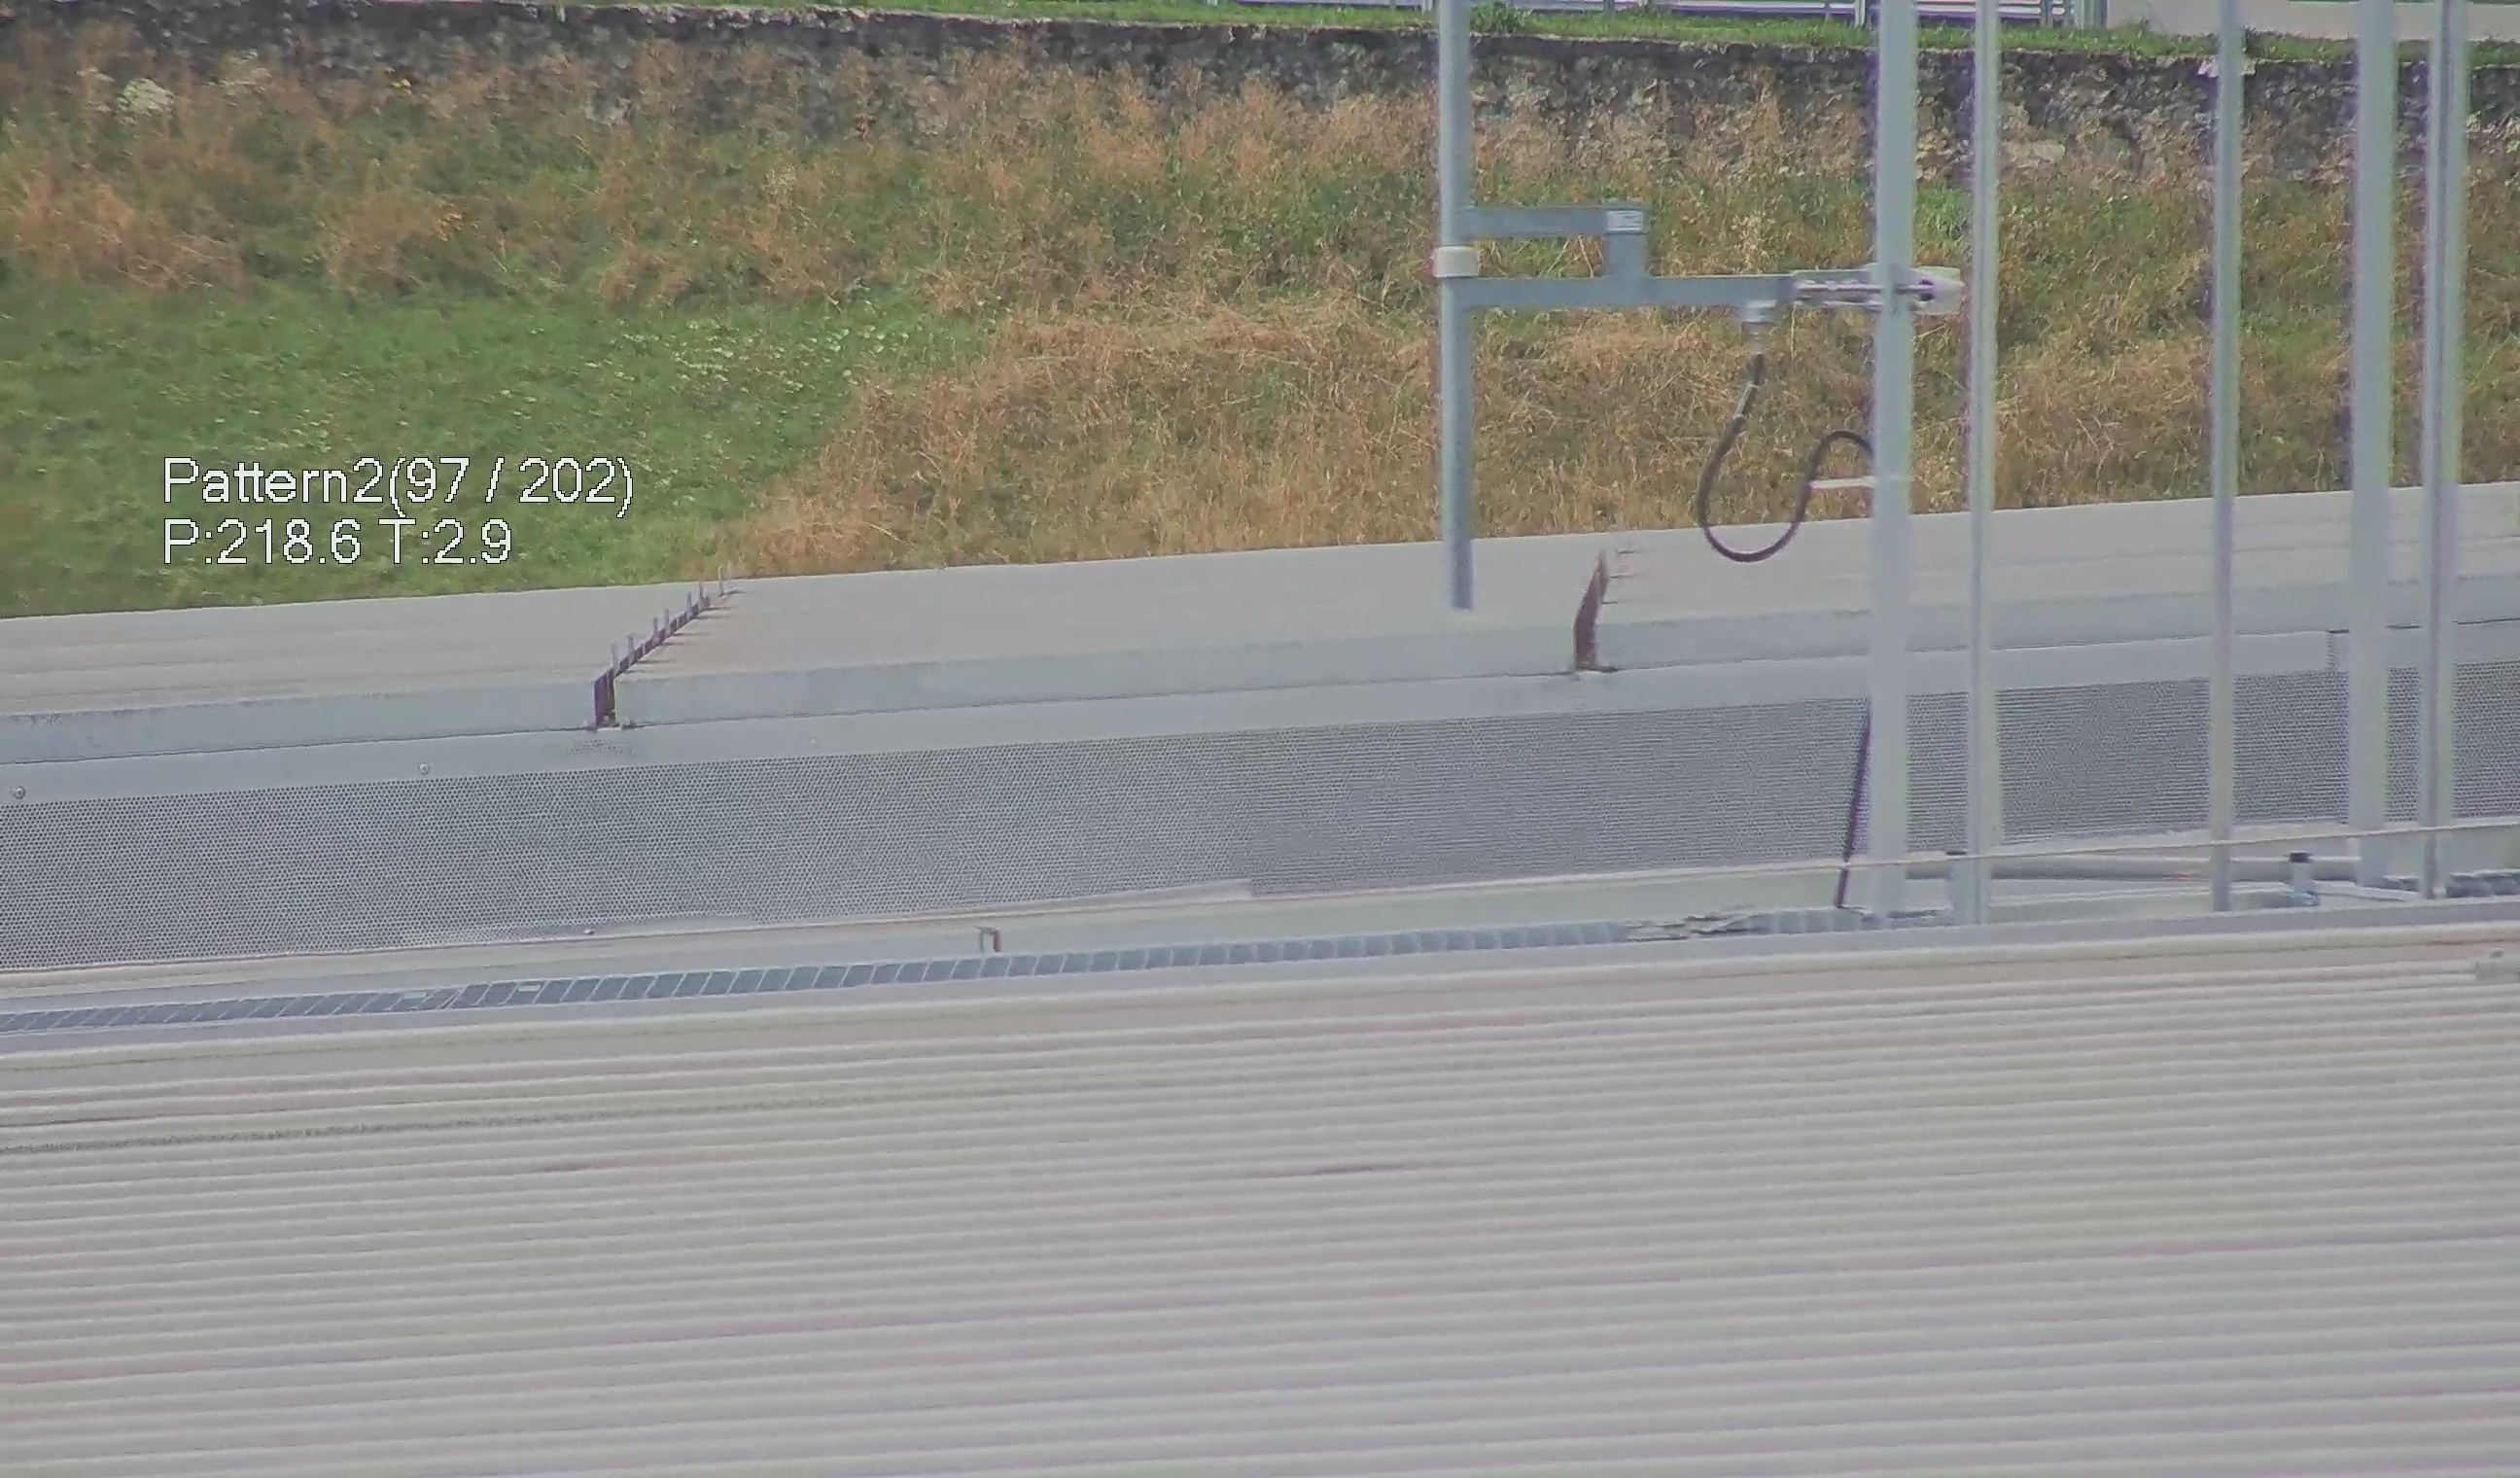Other: (1567, 533, 1642, 676)
